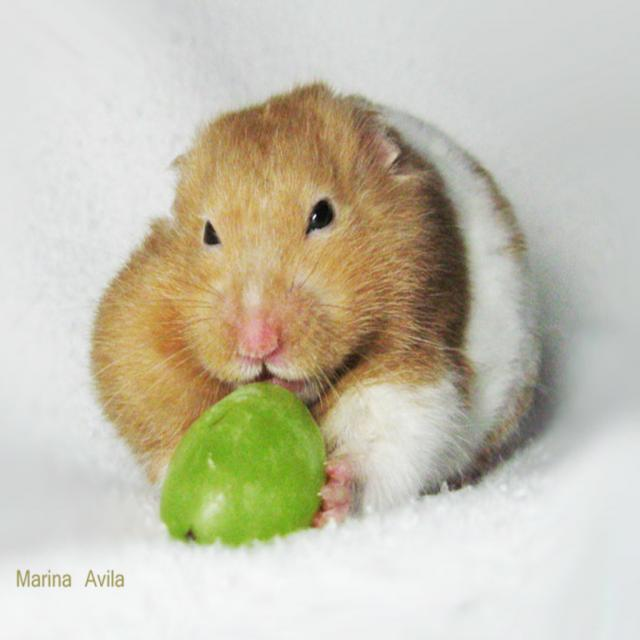rat: (88, 78, 545, 523)
